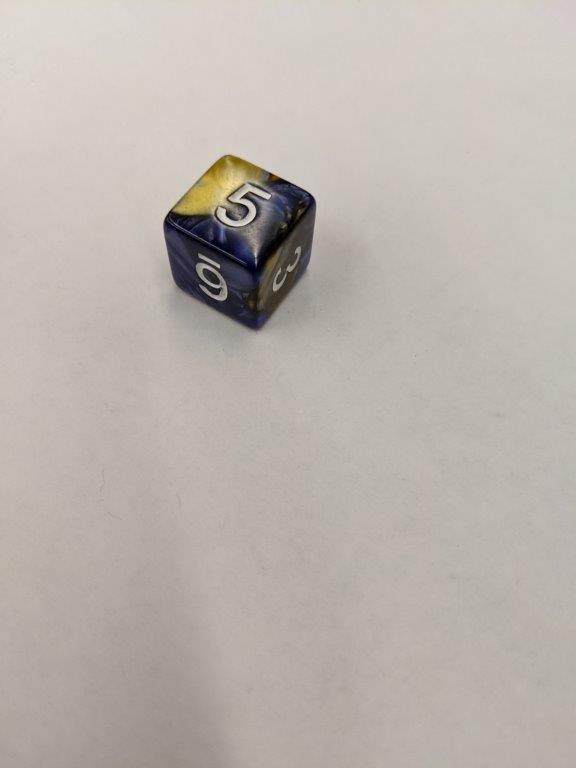d6-5: (161, 153, 316, 331)
